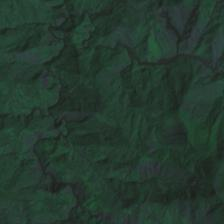landslides: (58, 111, 88, 121)
